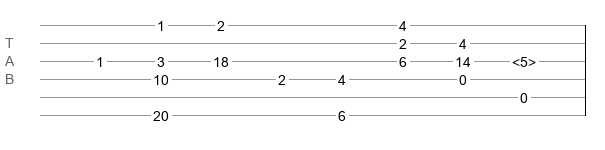0: (459, 72, 467, 82), (520, 90, 528, 100)
1: (96, 54, 104, 64), (157, 18, 165, 28)
10: (153, 72, 169, 82)
14: (455, 54, 471, 64)
18: (213, 54, 229, 64)
2: (217, 18, 225, 28), (278, 72, 286, 82), (399, 36, 407, 46)
20: (153, 108, 169, 118)
3: (157, 54, 165, 64)
4: (338, 72, 346, 82), (399, 18, 407, 28), (459, 36, 467, 46)
6: (338, 108, 346, 118), (399, 54, 407, 64)
harmonic: (512, 54, 536, 64)
